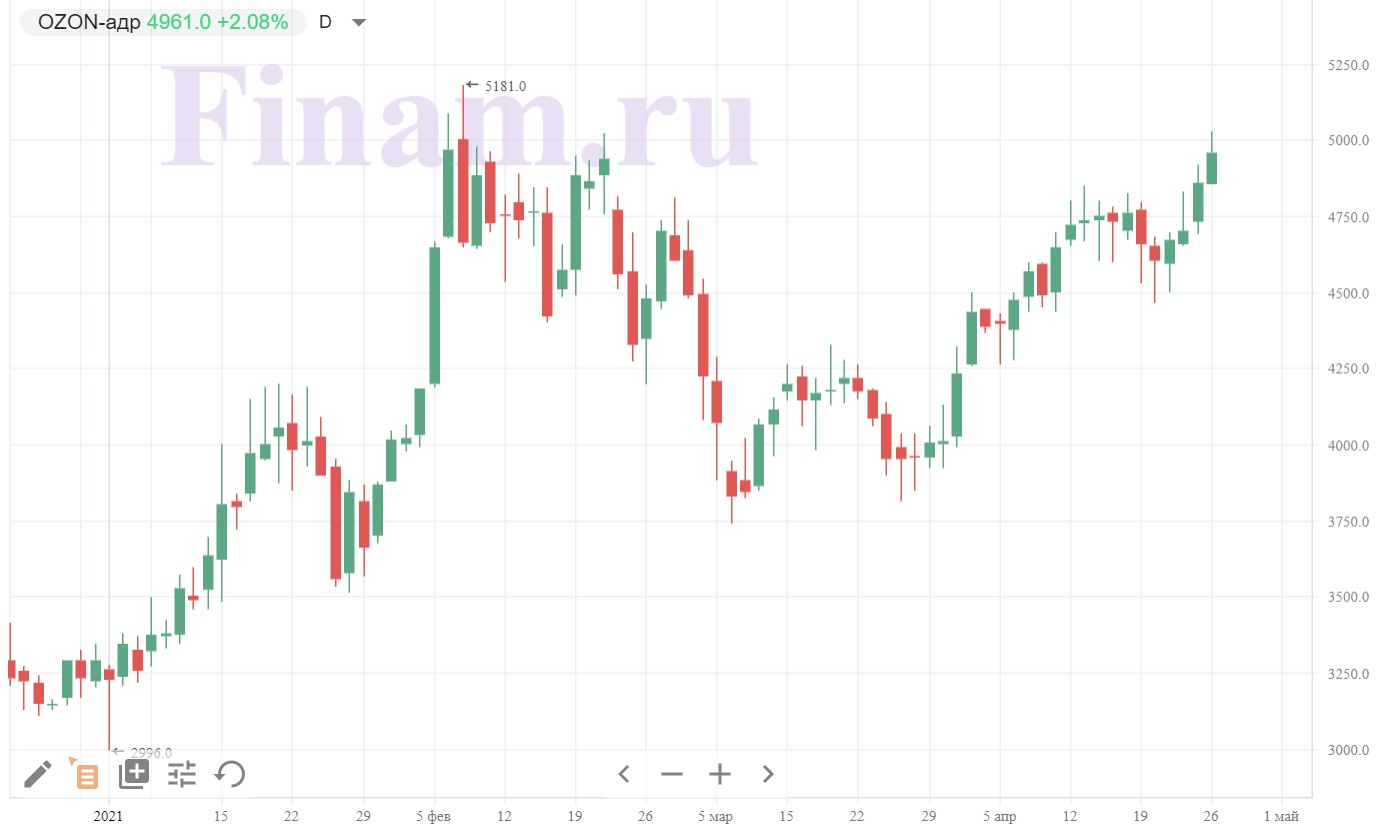bearishEngulfing: (441, 97, 470, 248), (271, 393, 301, 486)
bullishEngulfing: (1149, 222, 1178, 301)
